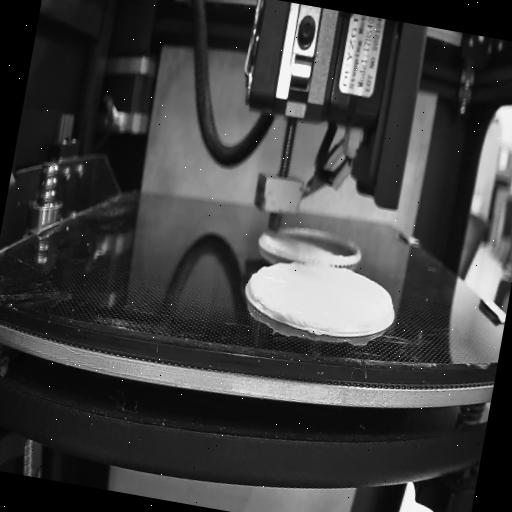over_extrusion: (244, 260, 272, 302)
